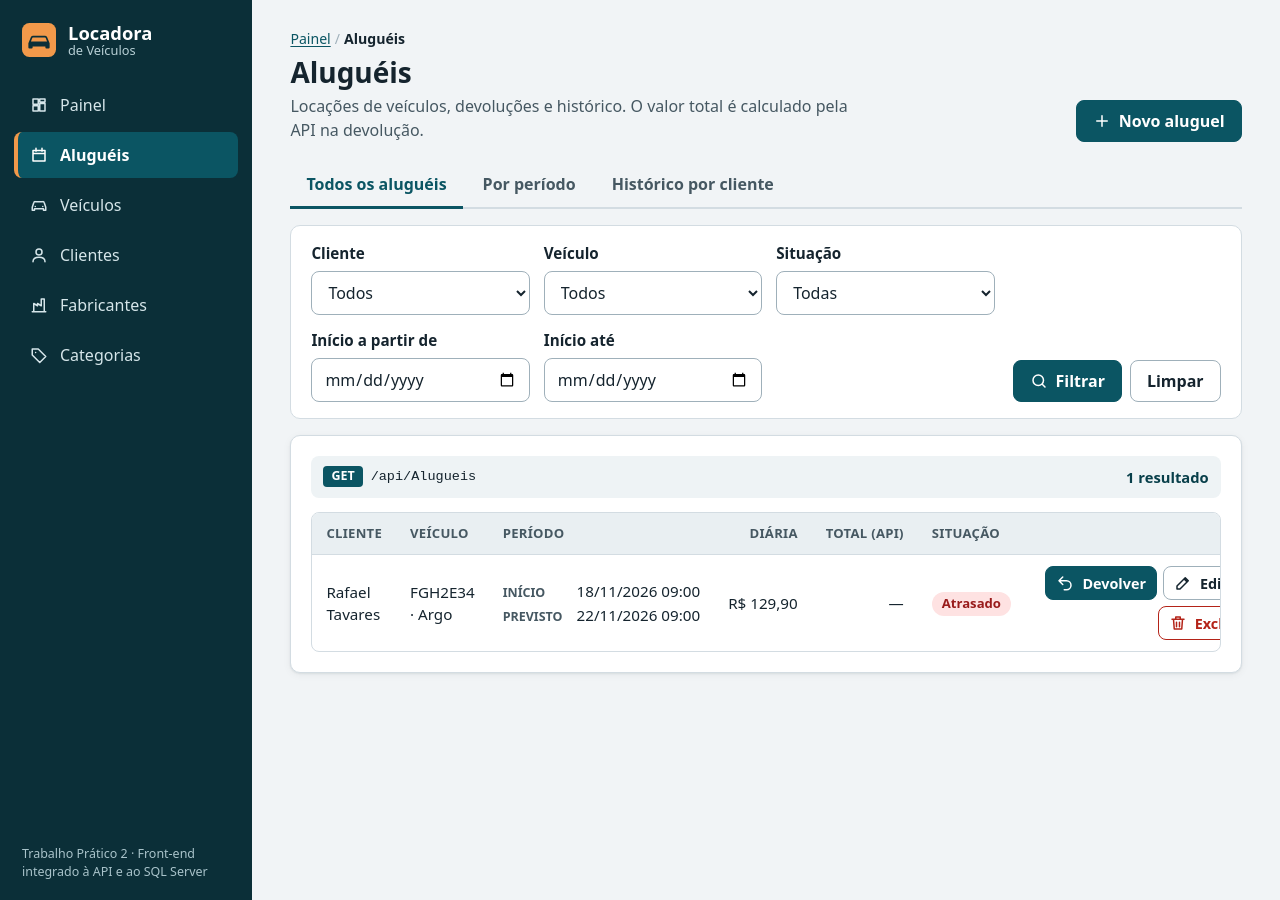
Scenario: Aluguéis — devolução › permite fechar a janela sem registrar nada
The width and height of the screenshot is (1280, 900).
Click the button with aria-label "Registrar devolução do aluguel 16" at point(1101, 584), box [1045,566,1157,600]
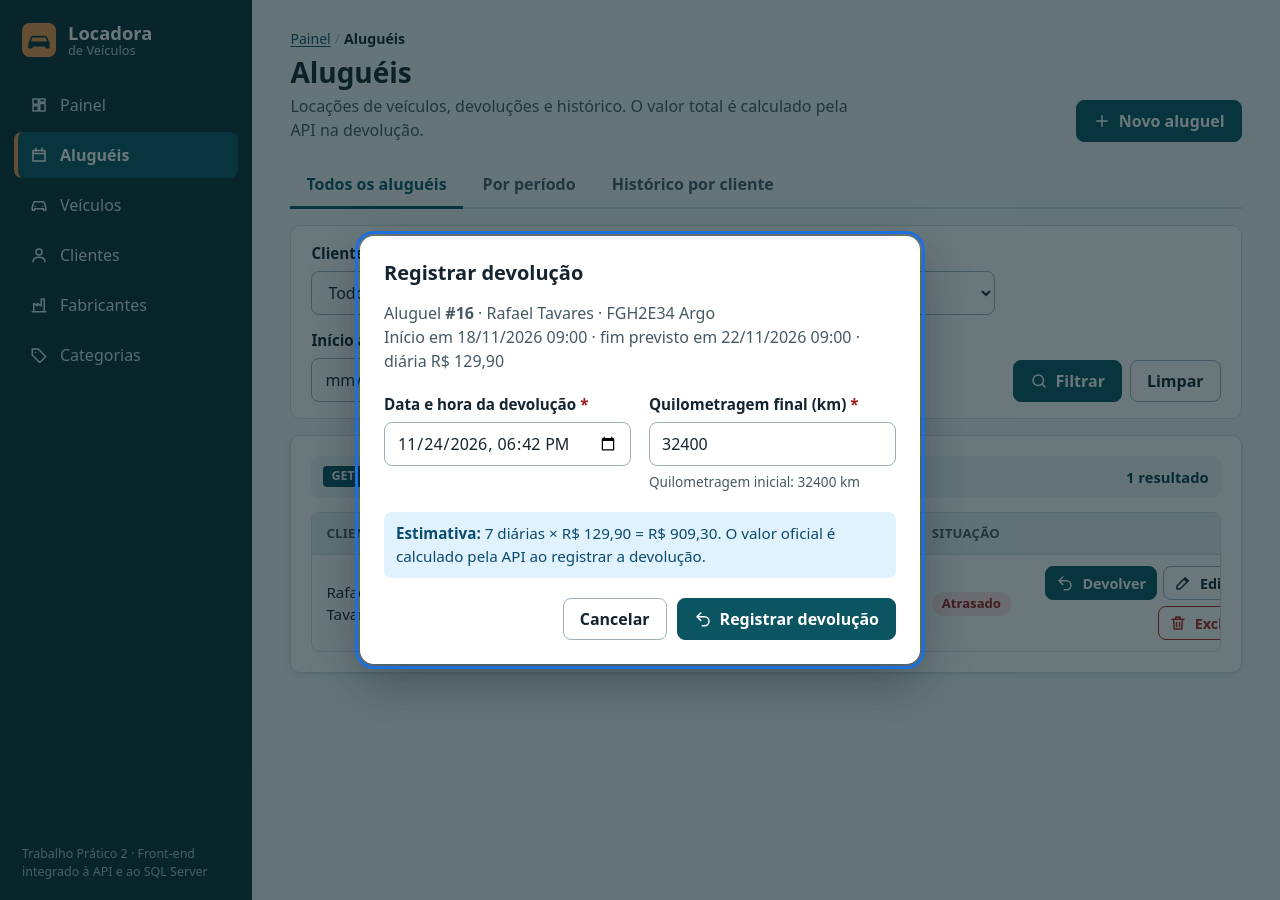
Click the button "Cancelar" at point(615, 619), box [563,598,667,640]
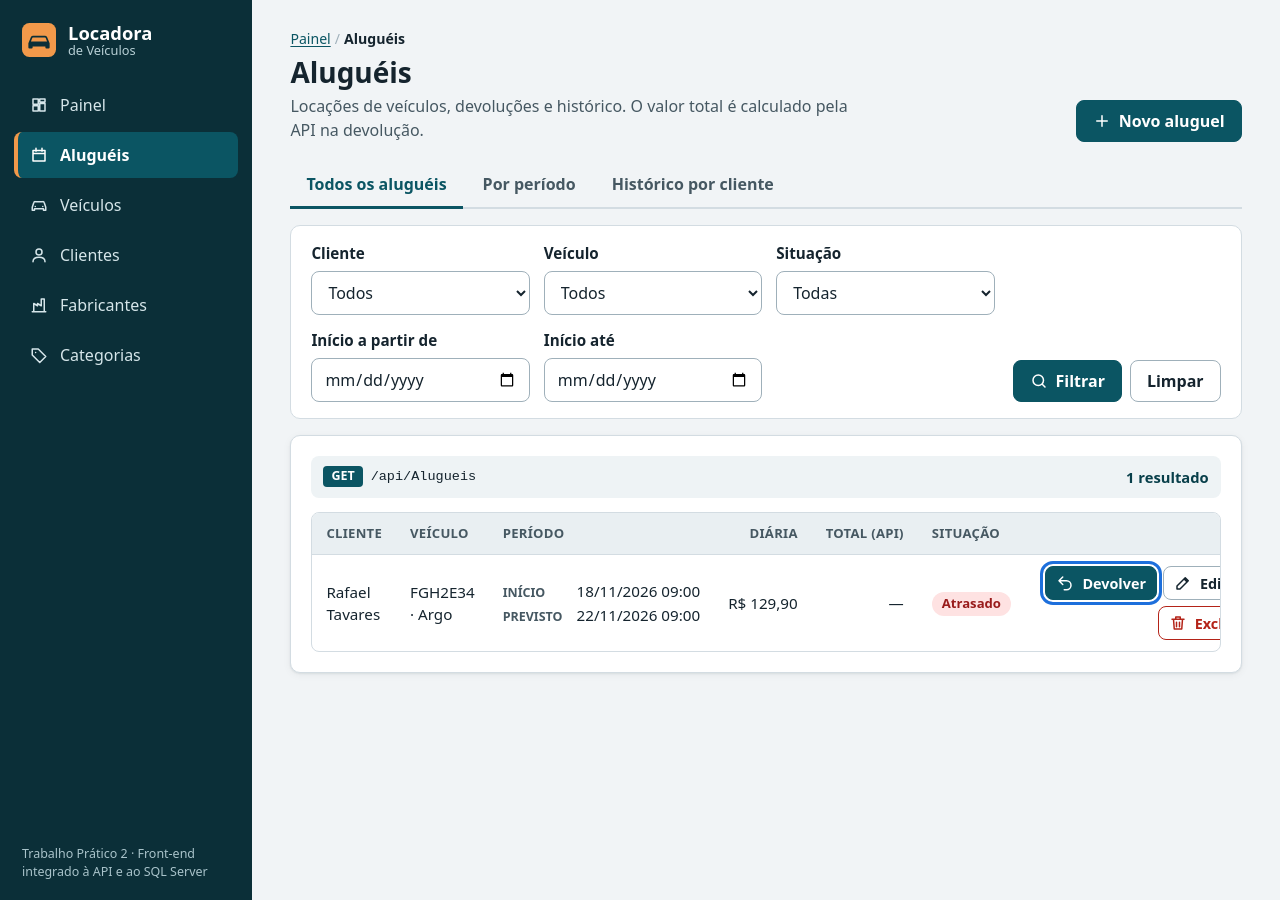
Now the dialog is gone
